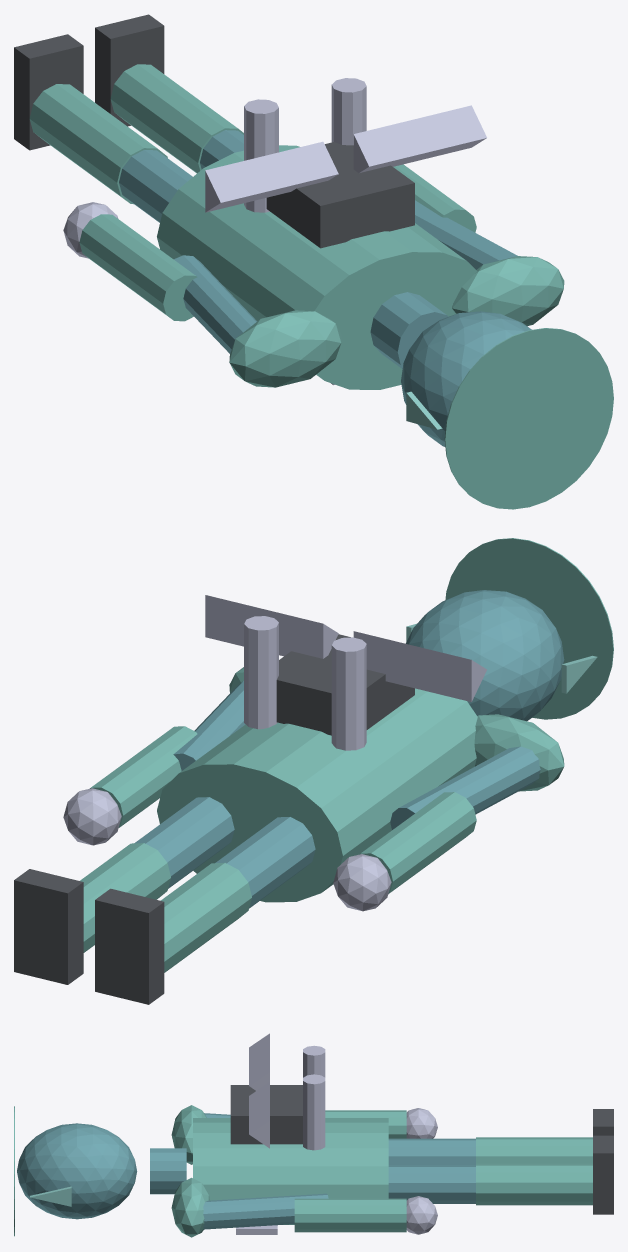
Rendered from SWN-036_mora_qint.glb.
3 renders of one model, top to bottom at view 1: azimuth 30°, elevation 25°; view 2: azimuth 150°, elevation 25°; view 3: azimuth 270°, elevation 25°, orthographic. The views are drawn at different scales.
Parts seen in each view (by area): view 1: body_spine, rank_halo_ring, back_thruster_pack, head, greave_-1, greave_1, shoulder_plate_-1, forearm_gauntlet_-1, shoulder_plate_1, zero_g_winglet_-1, zero_g_winglet_1, boot_-1 (+11 smaller); view 2: body_spine, head, rank_halo_ring, boot_-1, boot_1, greave_-1, back_thruster_pack, forearm_gauntlet_-1, zero_g_winglet_-1, thigh_1, thigh_-1, upper_arm_-1 (+10 smaller); view 3: body_spine, head, greave_1, forearm_gauntlet_1, back_thruster_pack, thigh_1, greave_-1, upper_arm_1, thigh_-1, aether_thruster_1, boot_1, shoulder_plate_1 (+11 smaller).
Part boxes in pixels (x1=…): body_spine: x1=157, y1=145, x2=477, y2=389; rank_halo_ring: x1=444, y1=328, x2=613, y2=509; back_thruster_pack: x1=266, y1=142, x2=414, y2=248; head: x1=401, y1=311, x2=531, y2=446; greave_-1: x1=29, y1=84, x2=167, y2=204; greave_1: x1=110, y1=64, x2=243, y2=173; shoulder_plate_-1: x1=229, y1=310, x2=341, y2=387; forearm_gauntlet_-1: x1=79, y1=214, x2=197, y2=321; shoulder_plate_1: x1=452, y1=256, x2=564, y2=326; zero_g_winglet_-1: x1=205, y1=141, x2=338, y2=212; zero_g_winglet_1: x1=353, y1=105, x2=486, y2=172; boot_-1: x1=14, y1=34, x2=83, y2=150; body_spine: x1=157, y1=688, x2=477, y2=902; head: x1=406, y1=590, x2=564, y2=721; rank_halo_ring: x1=445, y1=538, x2=613, y2=719; boot_-1: x1=95, y1=888, x2=164, y2=1004; boot_1: x1=14, y1=869, x2=83, y2=984; greave_-1: x1=160, y1=862, x2=251, y2=972; back_thruster_pack: x1=276, y1=634, x2=414, y2=735; forearm_gauntlet_-1: x1=359, y1=792, x2=476, y2=893; zero_g_winglet_-1: x1=353, y1=631, x2=486, y2=701; thigh_1: x1=134, y1=797, x2=234, y2=888; thigh_-1: x1=215, y1=817, x2=315, y2=908; upper_arm_-1: x1=390, y1=746, x2=540, y2=829; body_spine: x1=193, y1=1118, x2=388, y2=1224; head: x1=17, y1=1123, x2=137, y2=1219; greave_1: x1=476, y1=1163, x2=592, y2=1205; forearm_gauntlet_1: x1=294, y1=1198, x2=406, y2=1232; back_thruster_pack: x1=230, y1=1085, x2=302, y2=1144; thigh_1: x1=388, y1=1165, x2=475, y2=1203; greave_-1: x1=476, y1=1137, x2=592, y2=1163; upper_arm_1: x1=203, y1=1193, x2=328, y2=1229; thigh_-1: x1=388, y1=1138, x2=475, y2=1164; aether_thruster_1: x1=303, y1=1074, x2=325, y2=1150; boot_1: x1=593, y1=1135, x2=613, y2=1214; shoulder_plate_1: x1=171, y1=1177, x2=209, y2=1237.
Bounding box in the file's own units: 0.9932 × 0.7 × 2.3.
